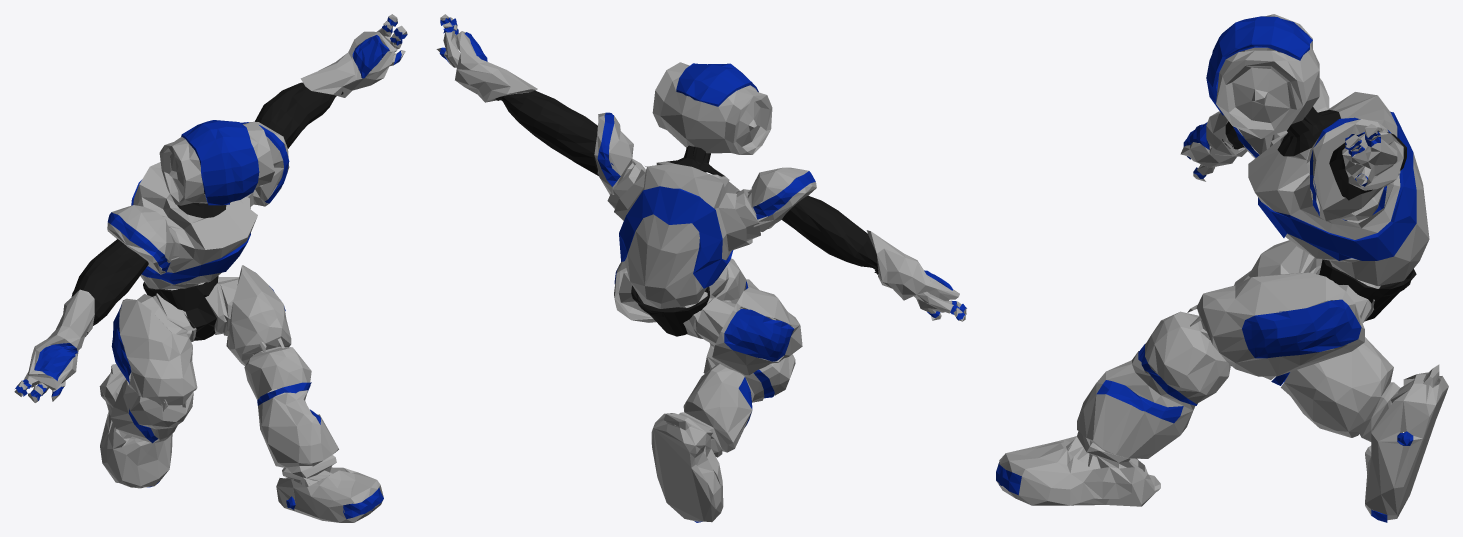
Rendered from run_jump6.obj.
3 renders of one model, left to right at view 1: azimuth 30°, elevation 25°; view 2: azimuth 150°, elevation 25°; view 3: azimuth 270°, elevation 25°, orthographic. The views are drawn at different scales.
Parts seen in each view (by area): view 1: Robot2.001_Robot2Mesh.000, Robot2_Robot2Mesh.001, Robot2.002_Robot2Mesh.002; view 2: Robot2.001_Robot2Mesh.000, Robot2_Robot2Mesh.001, Robot2.002_Robot2Mesh.002; view 3: Robot2.001_Robot2Mesh.000, Robot2_Robot2Mesh.001, Robot2.002_Robot2Mesh.002.
Boxes of the visible parts, <box> form: Robot2.001_Robot2Mesh.000: <box>14,14,407,522</box>; Robot2_Robot2Mesh.001: <box>15,16,407,518</box>; Robot2.002_Robot2Mesh.002: <box>71,82,343,340</box>; Robot2.001_Robot2Mesh.000: <box>436,14,966,522</box>; Robot2_Robot2Mesh.001: <box>439,17,966,522</box>; Robot2.002_Robot2Mesh.002: <box>495,90,878,336</box>; Robot2.001_Robot2Mesh.000: <box>996,14,1448,520</box>; Robot2_Robot2Mesh.001: <box>996,16,1416,522</box>; Robot2.002_Robot2Mesh.002: <box>1222,107,1416,321</box>.
Size of the model in its own units: 2.1 by 1.87 by 1.4.
